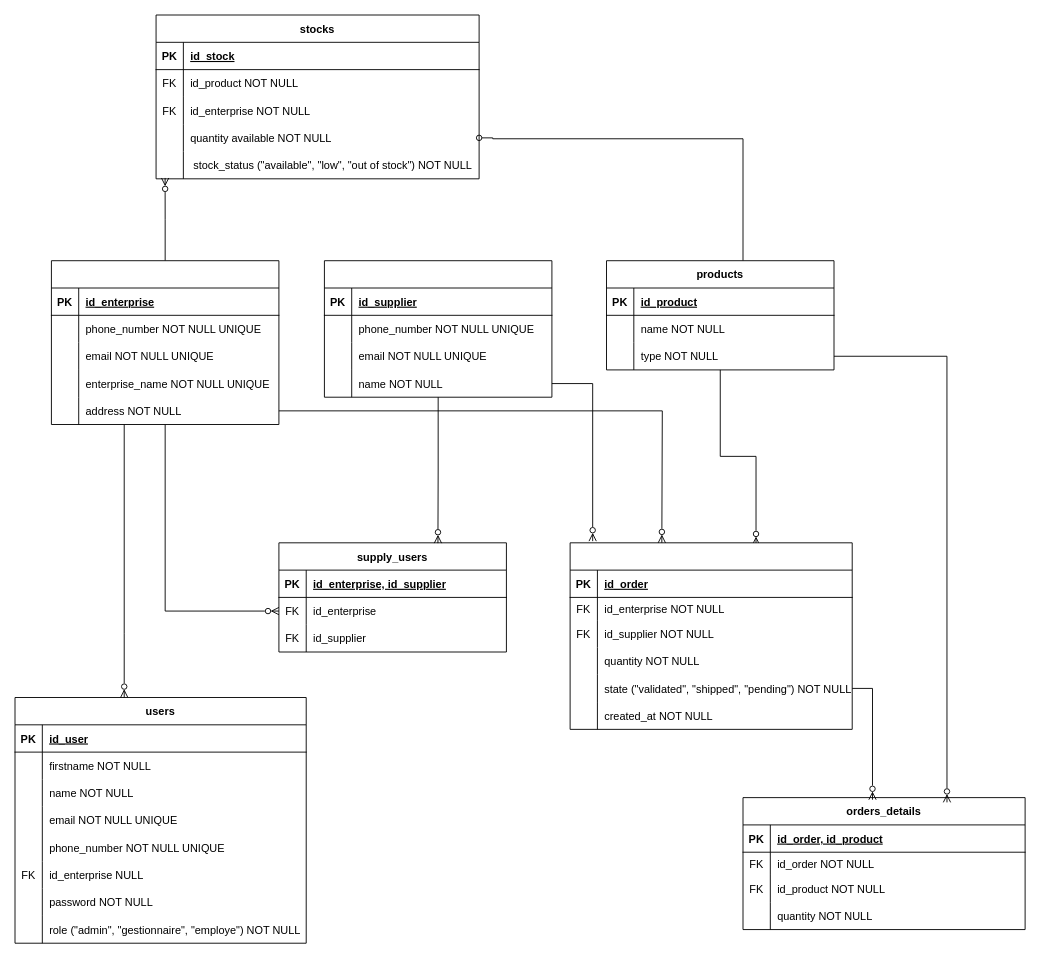
Some shapes in this 1040 by 958 pixel diagram are drawn without their labels. Here are the shapes that lost their labels. From the top down, the box of each, then its label:
(51, 260, 279, 425): enterprises
(324, 260, 552, 397): suppliers
(569, 542, 852, 729): orders
